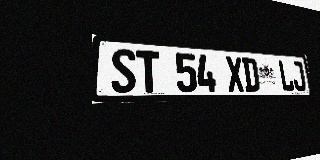4: (195, 54, 217, 92)
5: (175, 53, 198, 92)
D: (241, 57, 260, 92)
J: (290, 61, 306, 91)
L: (278, 60, 294, 91)
S: (111, 48, 137, 93)
T: (136, 50, 161, 93)
X: (225, 56, 245, 92)
